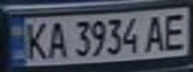3: (69, 17, 93, 59), (106, 16, 124, 56)
4: (121, 15, 145, 55)
9: (87, 17, 109, 57)
A: (142, 12, 172, 53), (42, 18, 69, 60)
E: (157, 10, 190, 52)
K: (21, 19, 51, 61)
